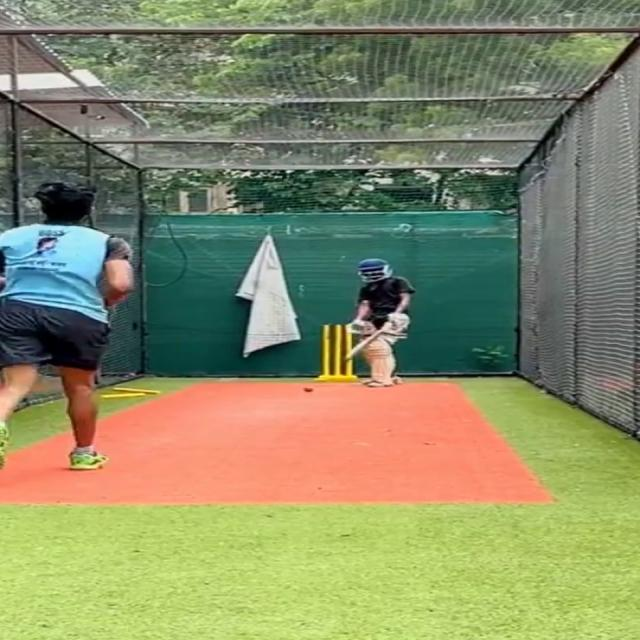ball: (300, 385, 315, 393)
stump: (318, 323, 354, 383)
